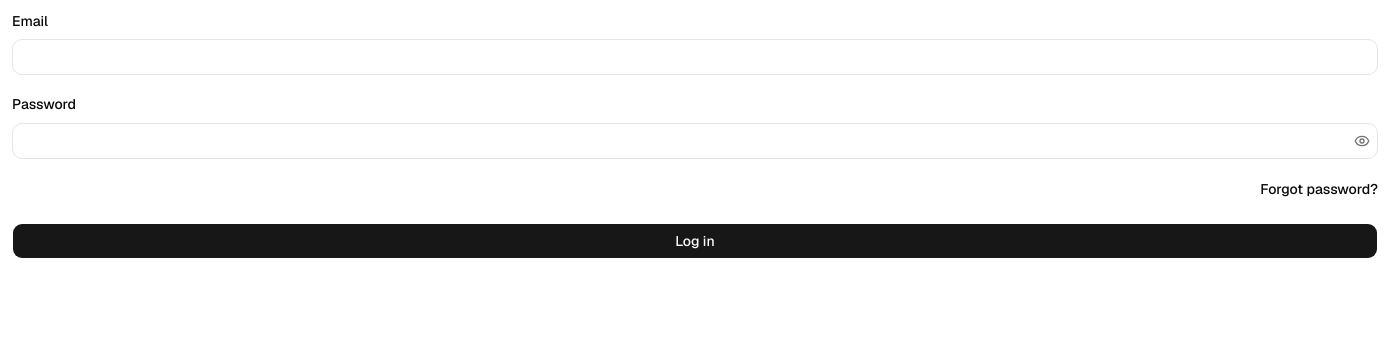
Test: LoginForm › shows invalid credentials and keeps the form usable for another try
Type "ada@example.com" into the field labelled "Email" at (695, 57), box [12,39,1378,75]
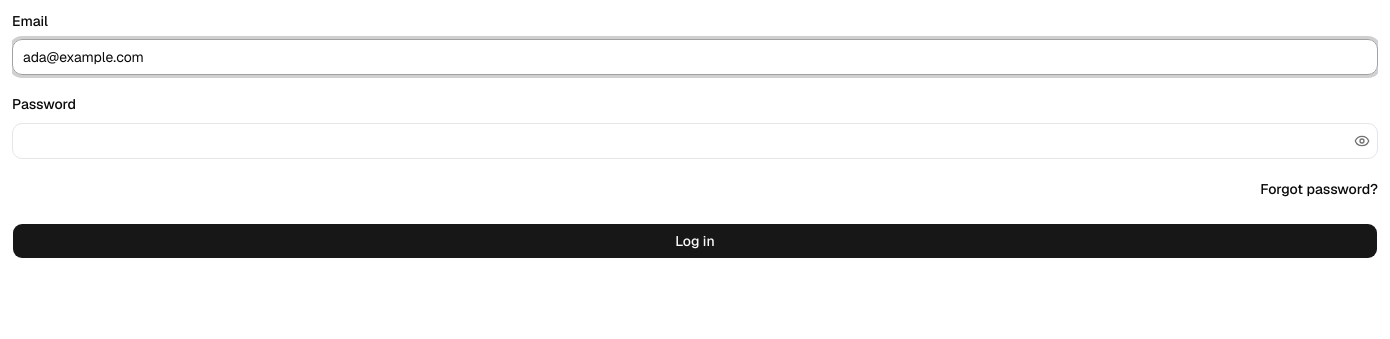
Type "wrong" into the password field labelled "Password" at (681, 140), box [13,124,1350,156]
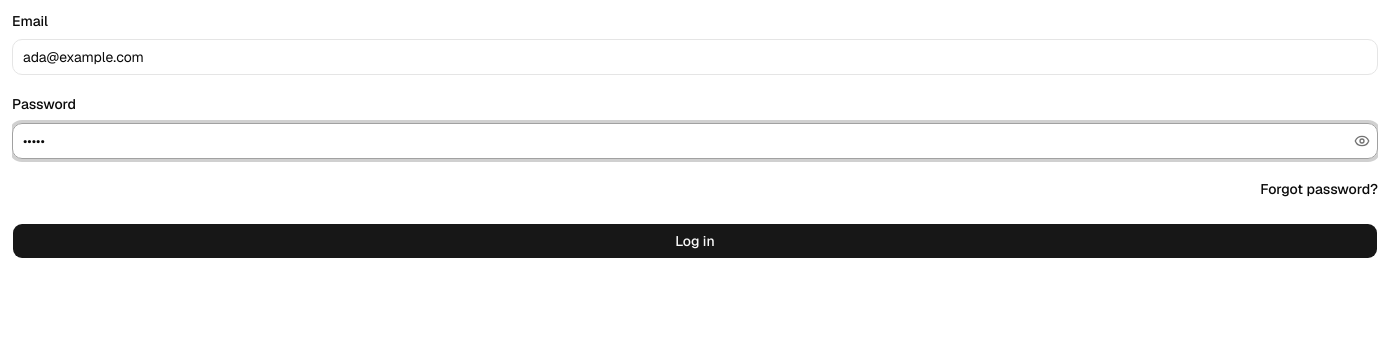
Click the button "Log in" at (695, 240), box [12,222,1378,258]
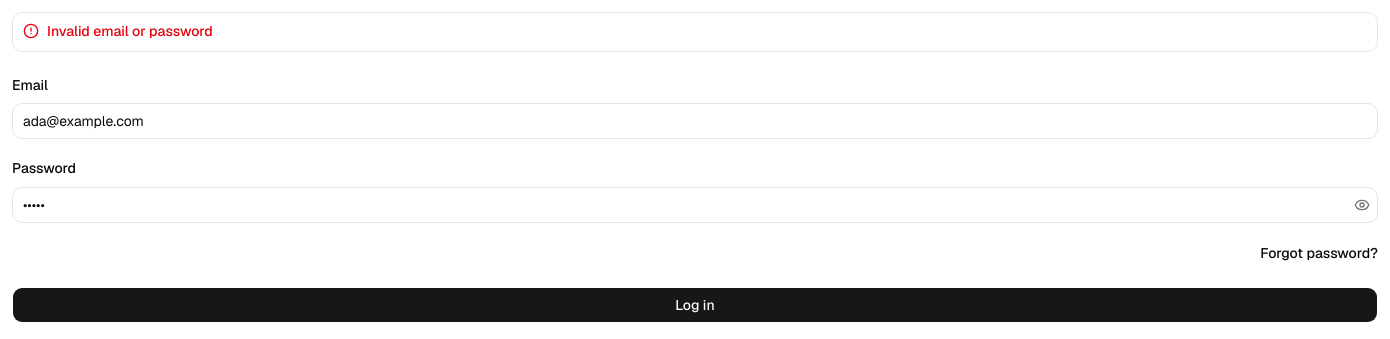
Expected: the button "Log in" is enabled, [12,286,1378,322]
Expected: the message reads "Invalid email or password", [47,22,213,40]
